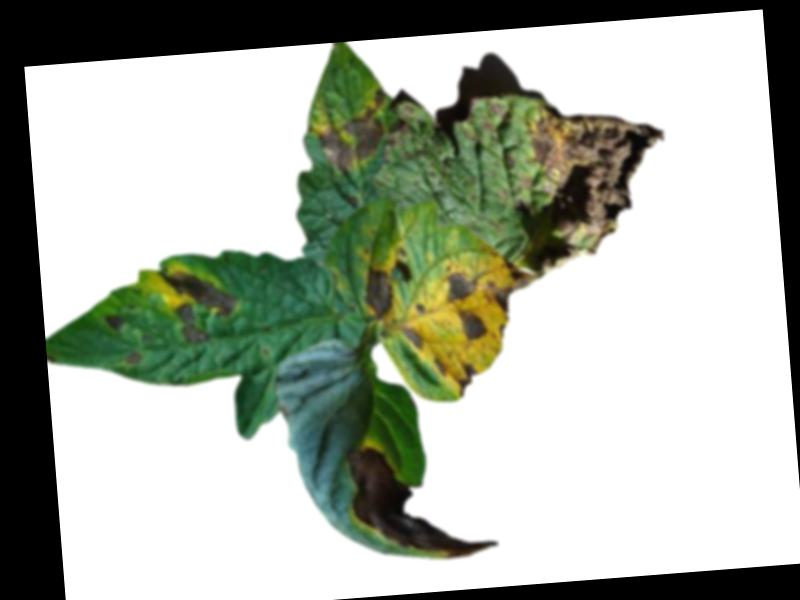Early_blight: (518, 97, 673, 274), (346, 438, 499, 566), (315, 83, 394, 176), (159, 264, 240, 348), (481, 252, 546, 317), (362, 264, 398, 326), (441, 263, 479, 304), (390, 99, 417, 151), (457, 308, 489, 343), (454, 361, 480, 399), (399, 327, 427, 352), (487, 99, 511, 122), (103, 313, 124, 334), (434, 359, 446, 379), (125, 352, 143, 365)
